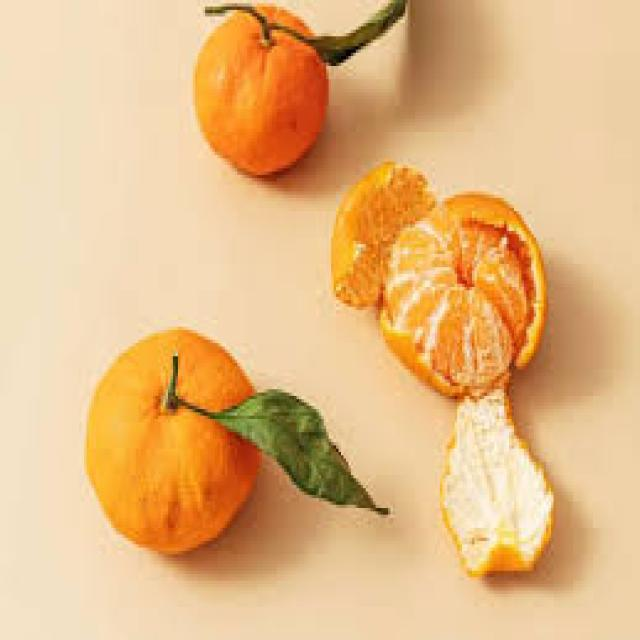Organik: (73, 314, 406, 574), (329, 150, 566, 398), (166, 0, 420, 184), (428, 391, 578, 586)
